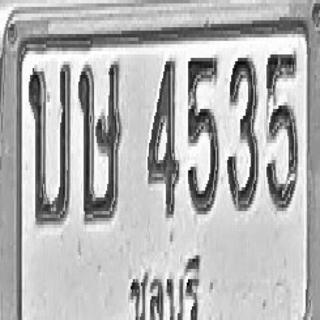A26: (28, 63, 70, 226)
A39: (78, 59, 122, 223)
N03: (227, 54, 258, 211)
N04: (147, 58, 178, 218)
N05: (187, 54, 218, 214), (266, 51, 297, 211)
P13: (126, 249, 202, 320)
